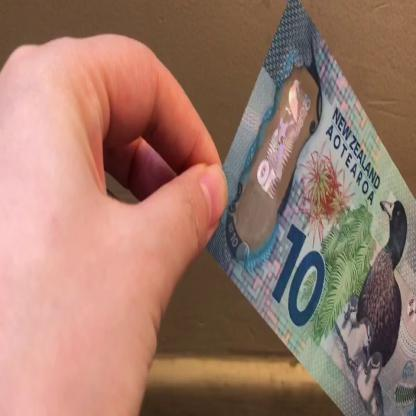10F: (253, 76, 313, 205)
